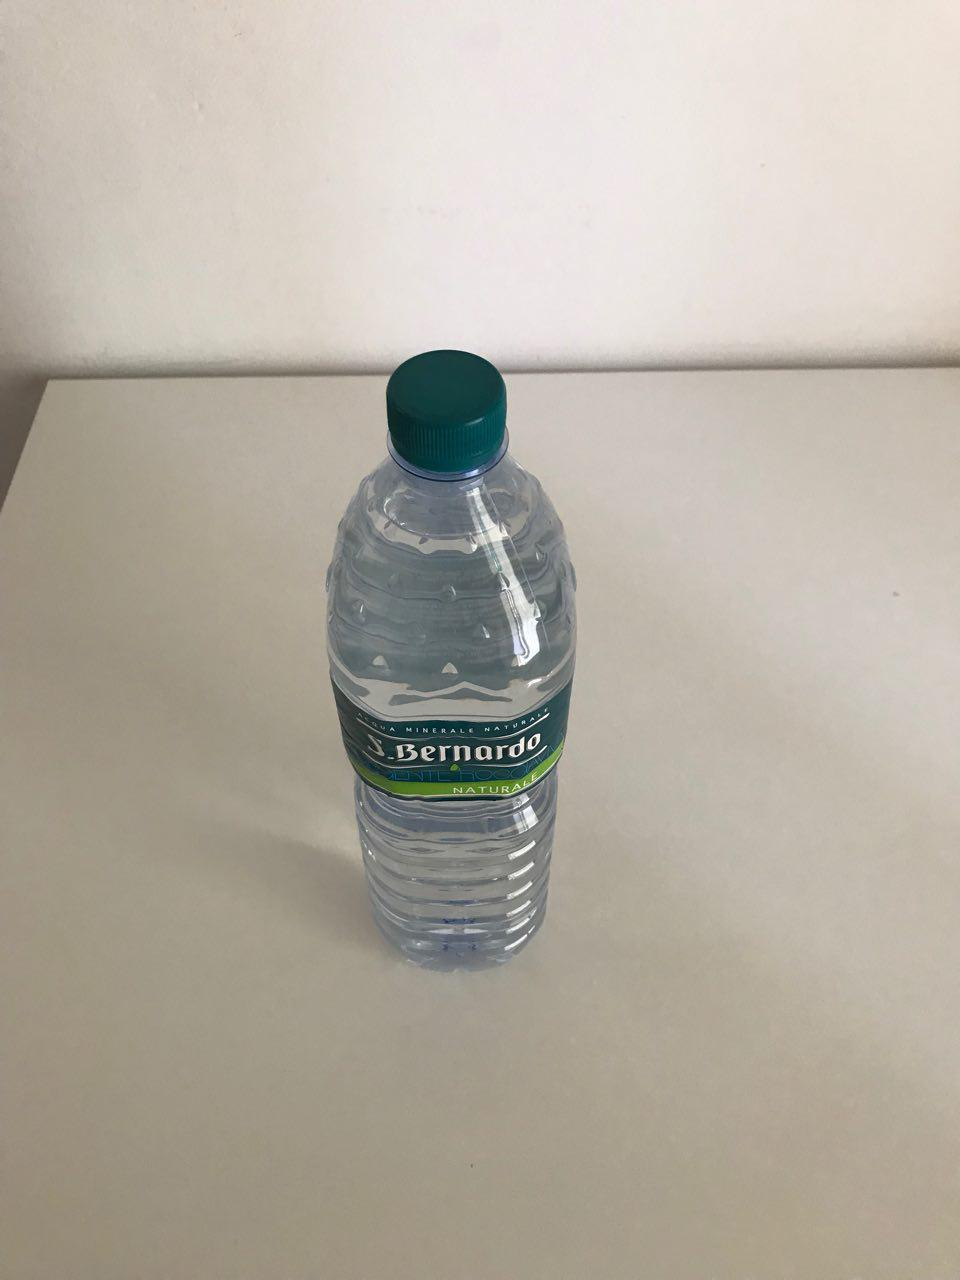san_bernardo: (323, 348, 582, 973)
